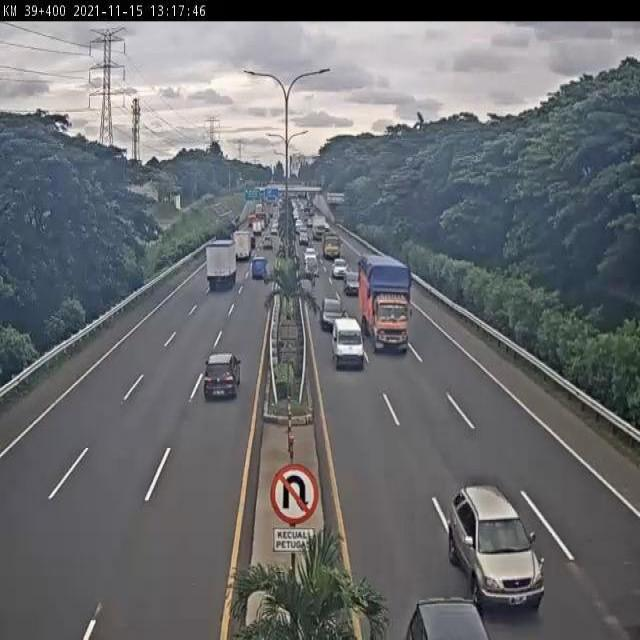bus-s-: (250, 252, 269, 284)
car: (447, 483, 547, 609), (203, 349, 241, 403), (319, 295, 344, 332), (343, 268, 361, 297)
small truck: (332, 316, 366, 369)
truck-m-: (359, 250, 415, 350), (205, 238, 238, 290)
